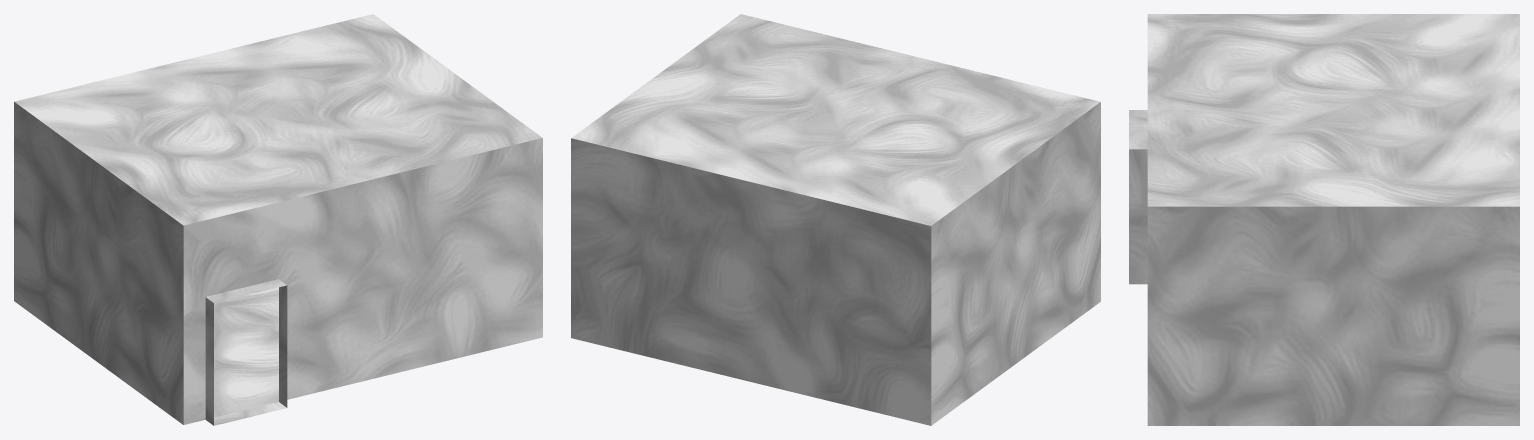
File: Stage1.obj
3 renders of one model, left to right at view 1: azimuth 30°, elevation 25°; view 2: azimuth 150°, elevation 25°; view 3: azimuth 270°, elevation 25°, orthographic. The views are drawn at different scales.
Parts seen in each view (by area): view 1: Stage1; view 2: Stage1; view 3: Stage1.
Boxes of the visible parts, box(x1,y1,x2,y2) form: Stage1: box(14, 14, 542, 425); Stage1: box(571, 14, 1100, 425); Stage1: box(1129, 14, 1519, 425).
Size of the model in its own units: 12.25 by 6.5 by 10.5.
1 material, 1 textured.
